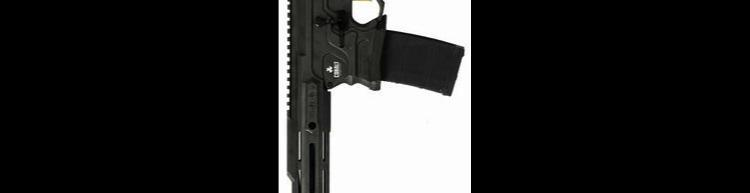gun: (286, 0, 466, 193)
